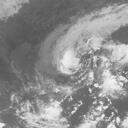cyclone: (49, 44, 84, 76)
